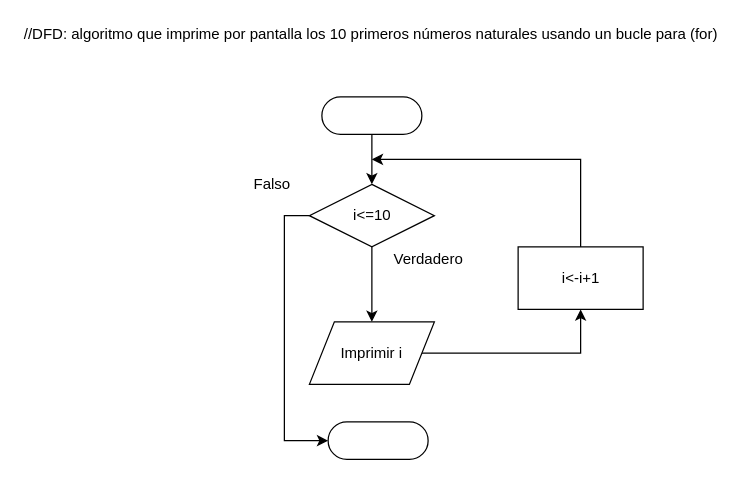
Image size: 755x481. Some labels were removed from this diagram. The centre of each missing label's shape, as x and y in pixels:
"Fin" belongs at pixel 377 440.
"Inicio" belongs at pixel 371 115.
